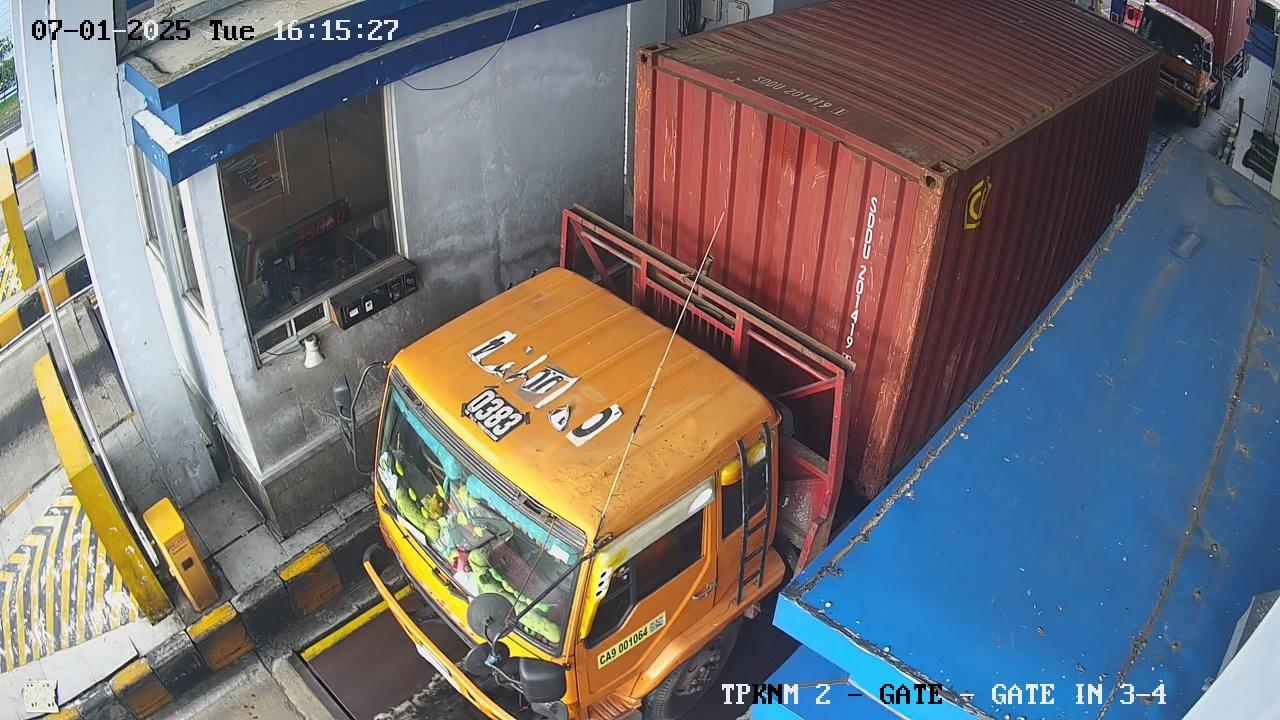Container_ID: (712, 66, 849, 124)
Container_ID_Vertikal: (836, 190, 884, 363)
truck_id: (597, 611, 668, 668), (461, 386, 530, 442)
